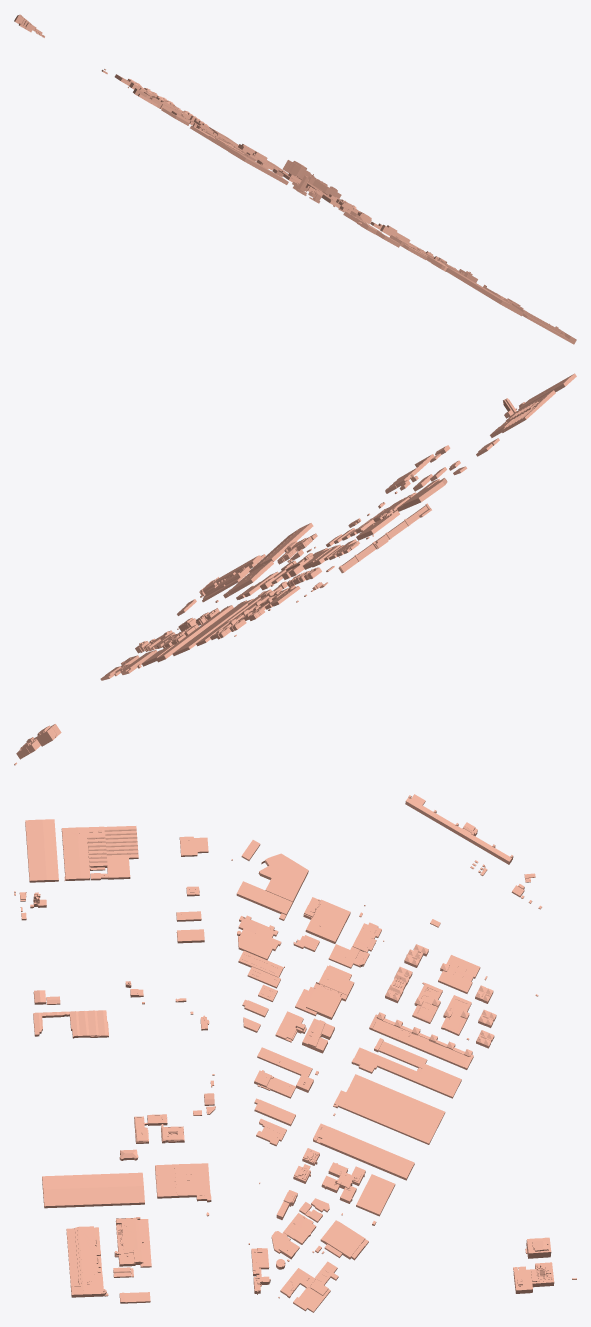
3 renders of one model, top to bottom at view 1: azimuth 30°, elevation 25°; view 2: azimuth 150°, elevation 25°; view 3: azimuth 270°, elevation 25°, orthographic. The views are drawn at different scales.
Bounding box in the file's own units: 3.49e+07 × 2.64e+07 × 4.16e+07.
